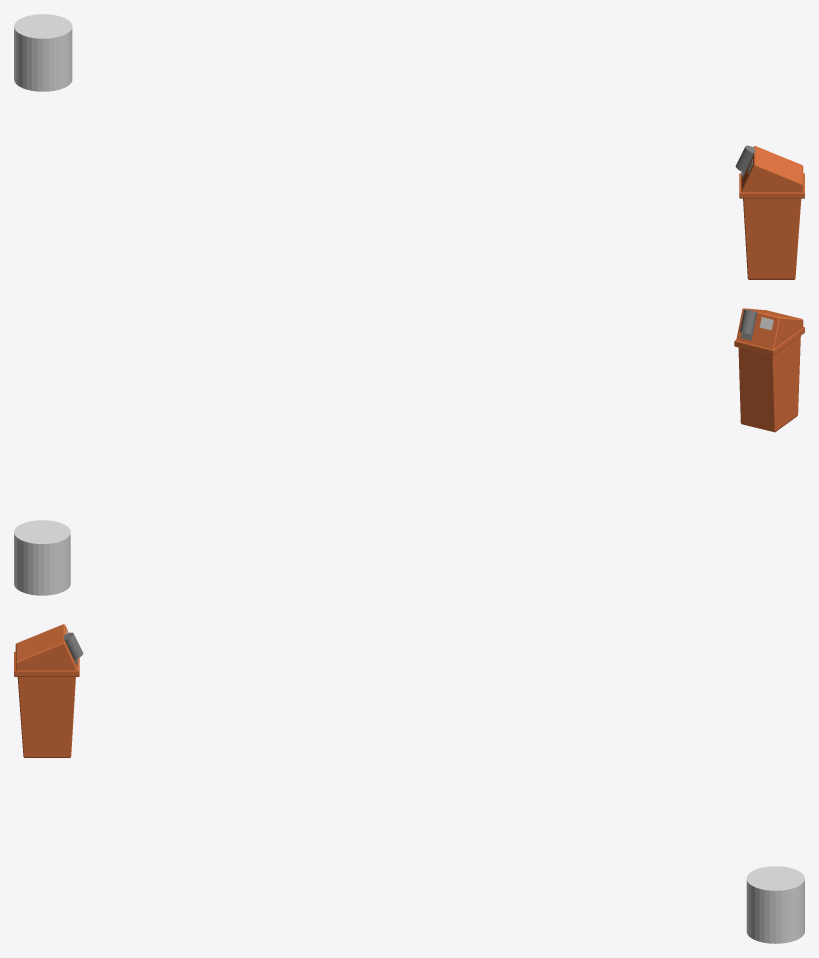
Rendered from sun_gomibako.fbx.
3 renders of one model, top to bottom at view 1: azimuth 90°, elevation 25°; view 2: azimuth 150°, elevation 25°; view 3: azimuth 270°, elevation 25°, orthographic. The views are drawn at different scales.
Parts seen in each view (by area): view 1: 立方体.016, 円柱.001, 立方体.017; view 2: 立方体.016, 円柱.001, 立方体.017; view 3: 立方体.016, 円柱.001, 立方体.017.
Boxes of the visible parts, x1,y1,x2,y2 form: 立方体.016: (739,173,804,279); 円柱.001: (14,14,72,91); 立方体.017: (741,146,803,192); 立方体.016: (734,327,804,432); 円柱.001: (14,520,70,595); 立方体.017: (736,308,803,349); 立方体.016: (14,651,79,757); 円柱.001: (746,866,804,943); 立方体.017: (15,624,77,670).
Bounding box in the file's own units: 1692 × 453 × 2705.
